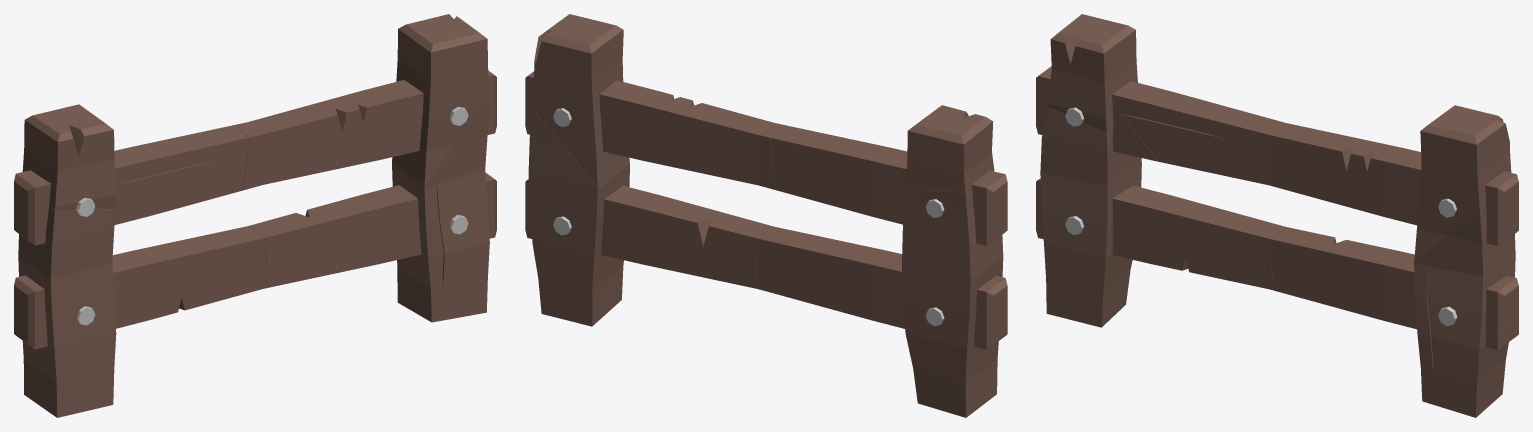
The model's file is Fence crashed 1.fbx.
3 renders of one model, left to right at view 1: azimuth 30°, elevation 25°; view 2: azimuth 150°, elevation 25°; view 3: azimuth 330°, elevation 25°, orthographic.
Visible parts, largest first — view 1: Fence.005_cell, Fence.006_cell.001, Fence.007_cell.002, Fence_cell, Fence_cell.001, Fence.006_cell, Fence.007_cell.001, Fence.005_cell.001, Fence.007_cell, Fence_cell.002; view 2: Fence.005_cell, Fence.006_cell.001, Fence.007_cell.002, Fence_cell, Fence_cell.001, Fence.006_cell, Fence.007_cell.001, Fence.005_cell.001, Fence.007_cell; view 3: Fence.005_cell, Fence.006_cell.001, Fence.007_cell.002, Fence_cell, Fence_cell.001, Fence.006_cell, Fence.007_cell.001, Fence.005_cell.001, Fence.007_cell, Fence_cell.002, Fence_cell.003.
Part boxes in pixels (x1,y1,x2,y2): Fence.005_cell: (18, 168, 116, 417); Fence.006_cell.001: (392, 105, 489, 322); Fence.007_cell.002: (235, 70, 496, 190); Fence_cell: (14, 226, 266, 349); Fence_cell.001: (248, 185, 421, 287); Fence.006_cell: (392, 14, 489, 184); Fence.007_cell.001: (114, 125, 248, 214); Fence.005_cell.001: (23, 104, 116, 211); Fence.007_cell: (14, 170, 153, 245); Fence_cell.002: (485, 172, 496, 221); Fence.005_cell: (902, 188, 1003, 417); Fence.006_cell.001: (528, 108, 629, 326); Fence.007_cell.002: (525, 71, 788, 189); Fence_cell: (756, 226, 1007, 349); Fence_cell.001: (601, 185, 772, 288); Fence.006_cell: (532, 14, 629, 187); Fence.007_cell.001: (770, 126, 907, 217); Fence.005_cell.001: (905, 105, 994, 192); Fence.007_cell: (877, 170, 1007, 245); Fence.005_cell: (1040, 107, 1141, 327); Fence.006_cell.001: (1414, 208, 1515, 417); Fence.007_cell.002: (1249, 119, 1518, 246); Fence_cell: (1036, 178, 1285, 289); Fence_cell.001: (1271, 227, 1507, 329); Fence.006_cell: (1414, 105, 1511, 259); Fence.007_cell.001: (1112, 81, 1273, 180); Fence.005_cell.001: (1047, 14, 1137, 133); Fence.007_cell: (1036, 66, 1157, 161); Fence_cell.002: (1486, 276, 1518, 332); Fence_cell.003: (1485, 315, 1518, 349).
Bounding box in the file's own units: 5.05 × 2.87 × 0.6757.
